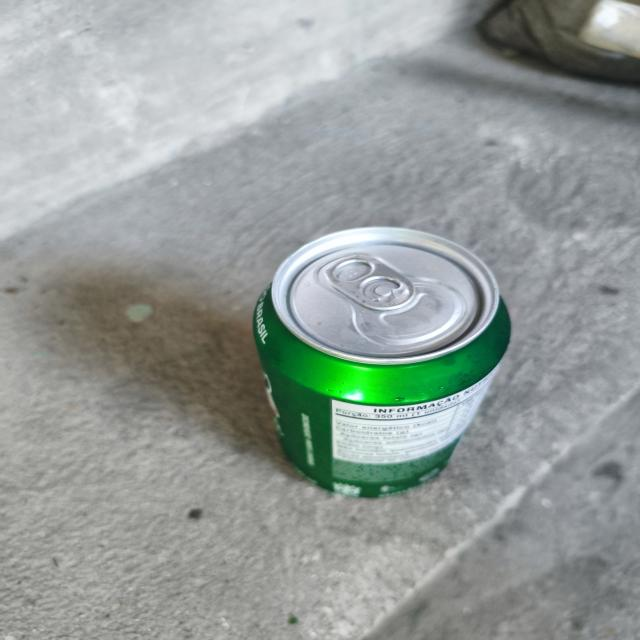Guarana: (256, 228, 512, 522)
